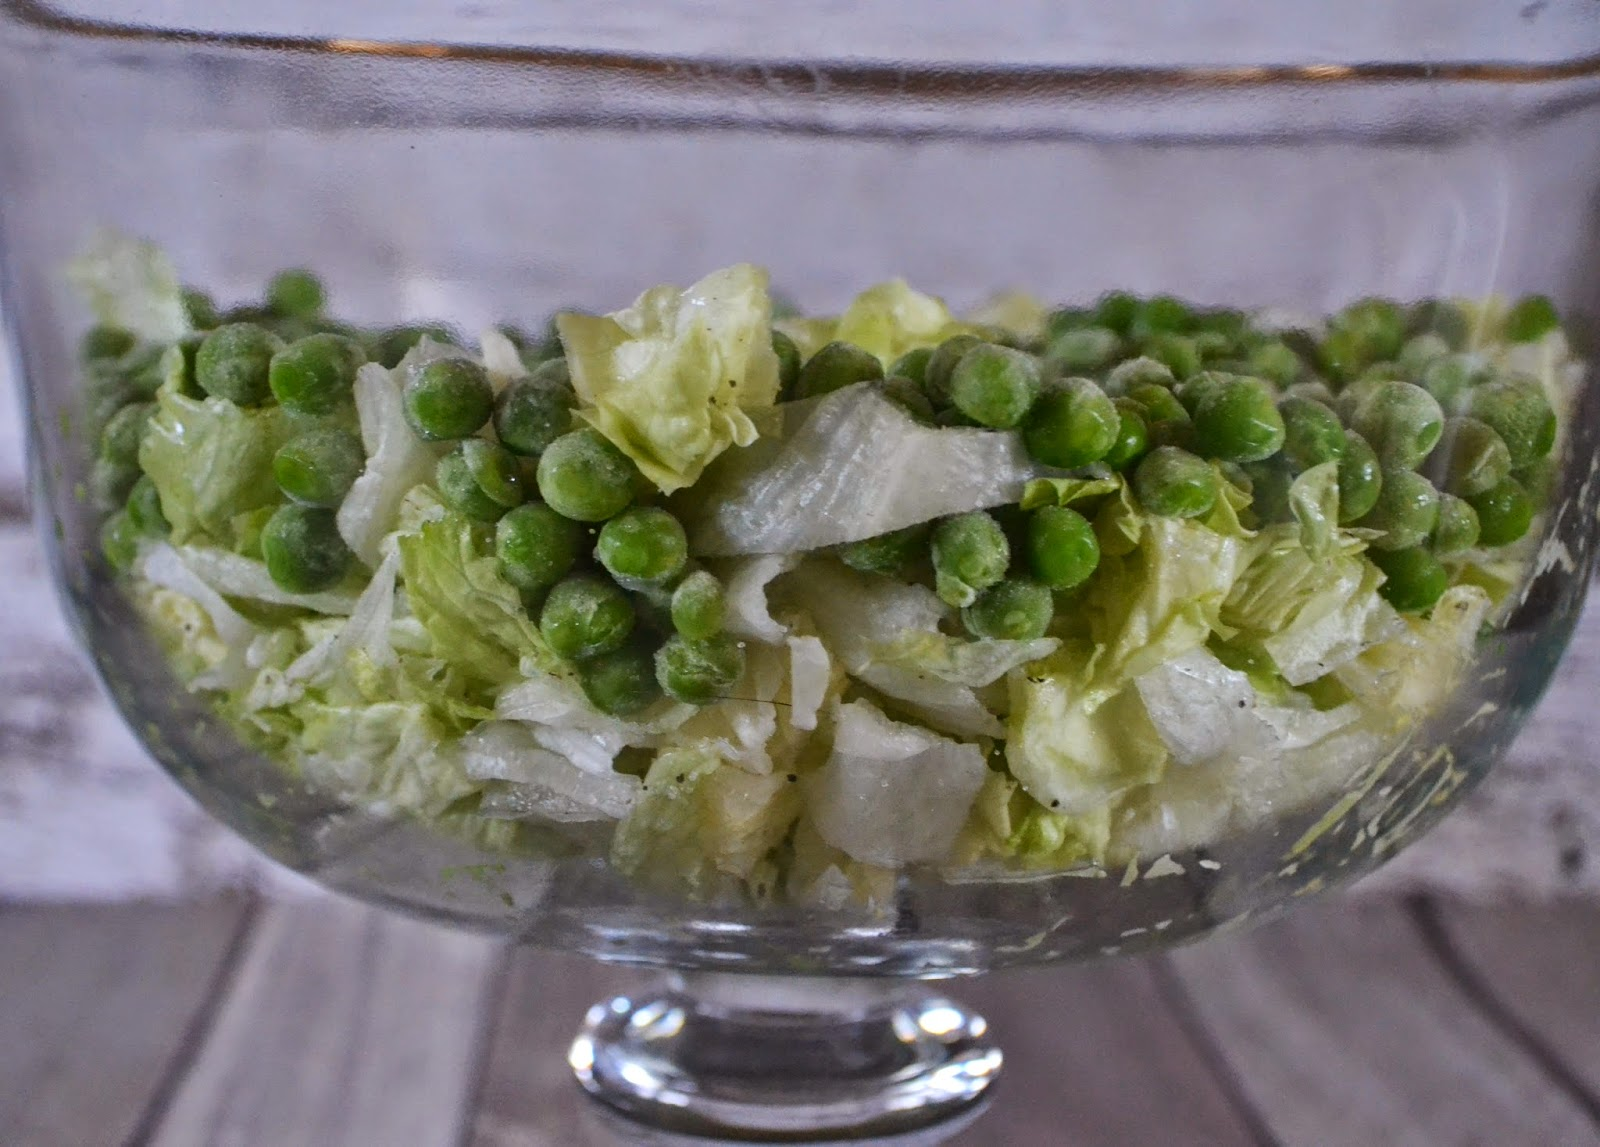boiled peas: (108, 282, 1578, 618)
chopped lettuce: (110, 523, 1483, 876)
